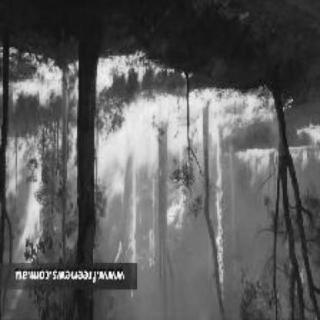Fire: (242, 128, 320, 175)
